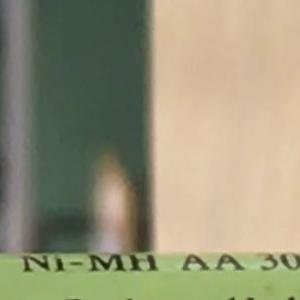keyword: (12, 245, 167, 282)
